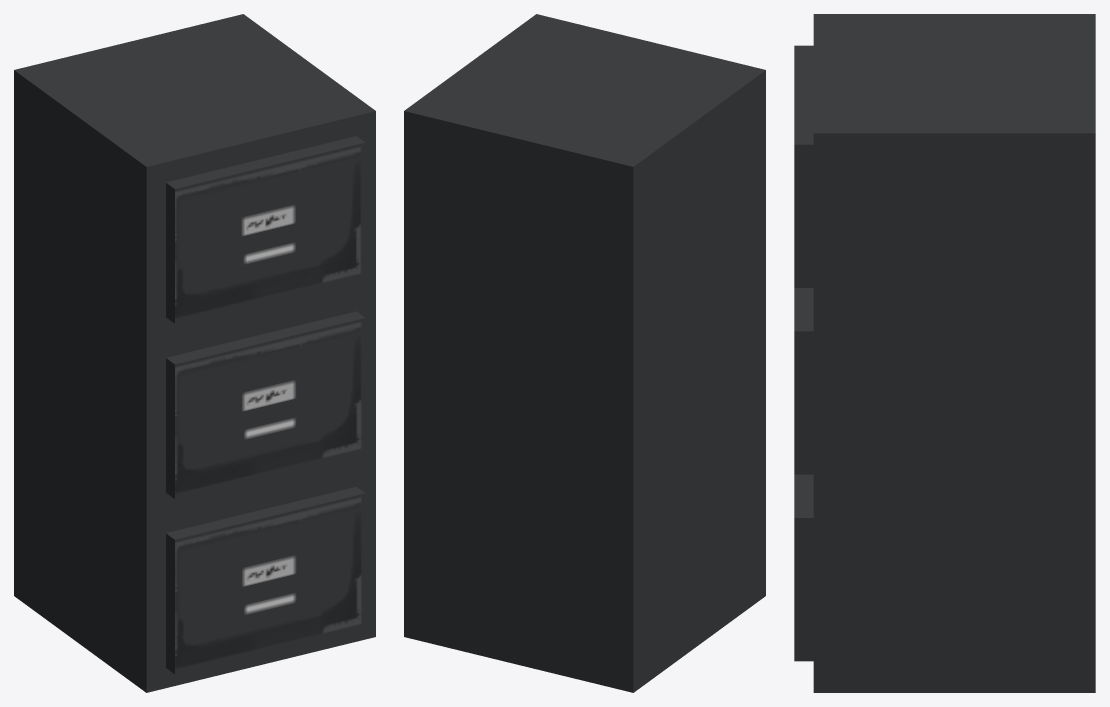
Rendered from filing cabinet.fbx.
3 renders of one model, left to right at view 1: azimuth 30°, elevation 25°; view 2: azimuth 150°, elevation 25°; view 3: azimuth 270°, elevation 25°, orthographic. The views are drawn at different scales.
Parts seen in each view (by area): view 1: filing cabinet; view 2: filing cabinet; view 3: filing cabinet.
Part boxes in pixels (x1,y1,x2,y2): filing cabinet: [14, 14, 375, 692]; filing cabinet: [404, 14, 765, 692]; filing cabinet: [794, 14, 1095, 692].
Bounding box in the file's own units: 106 × 233 × 113.
